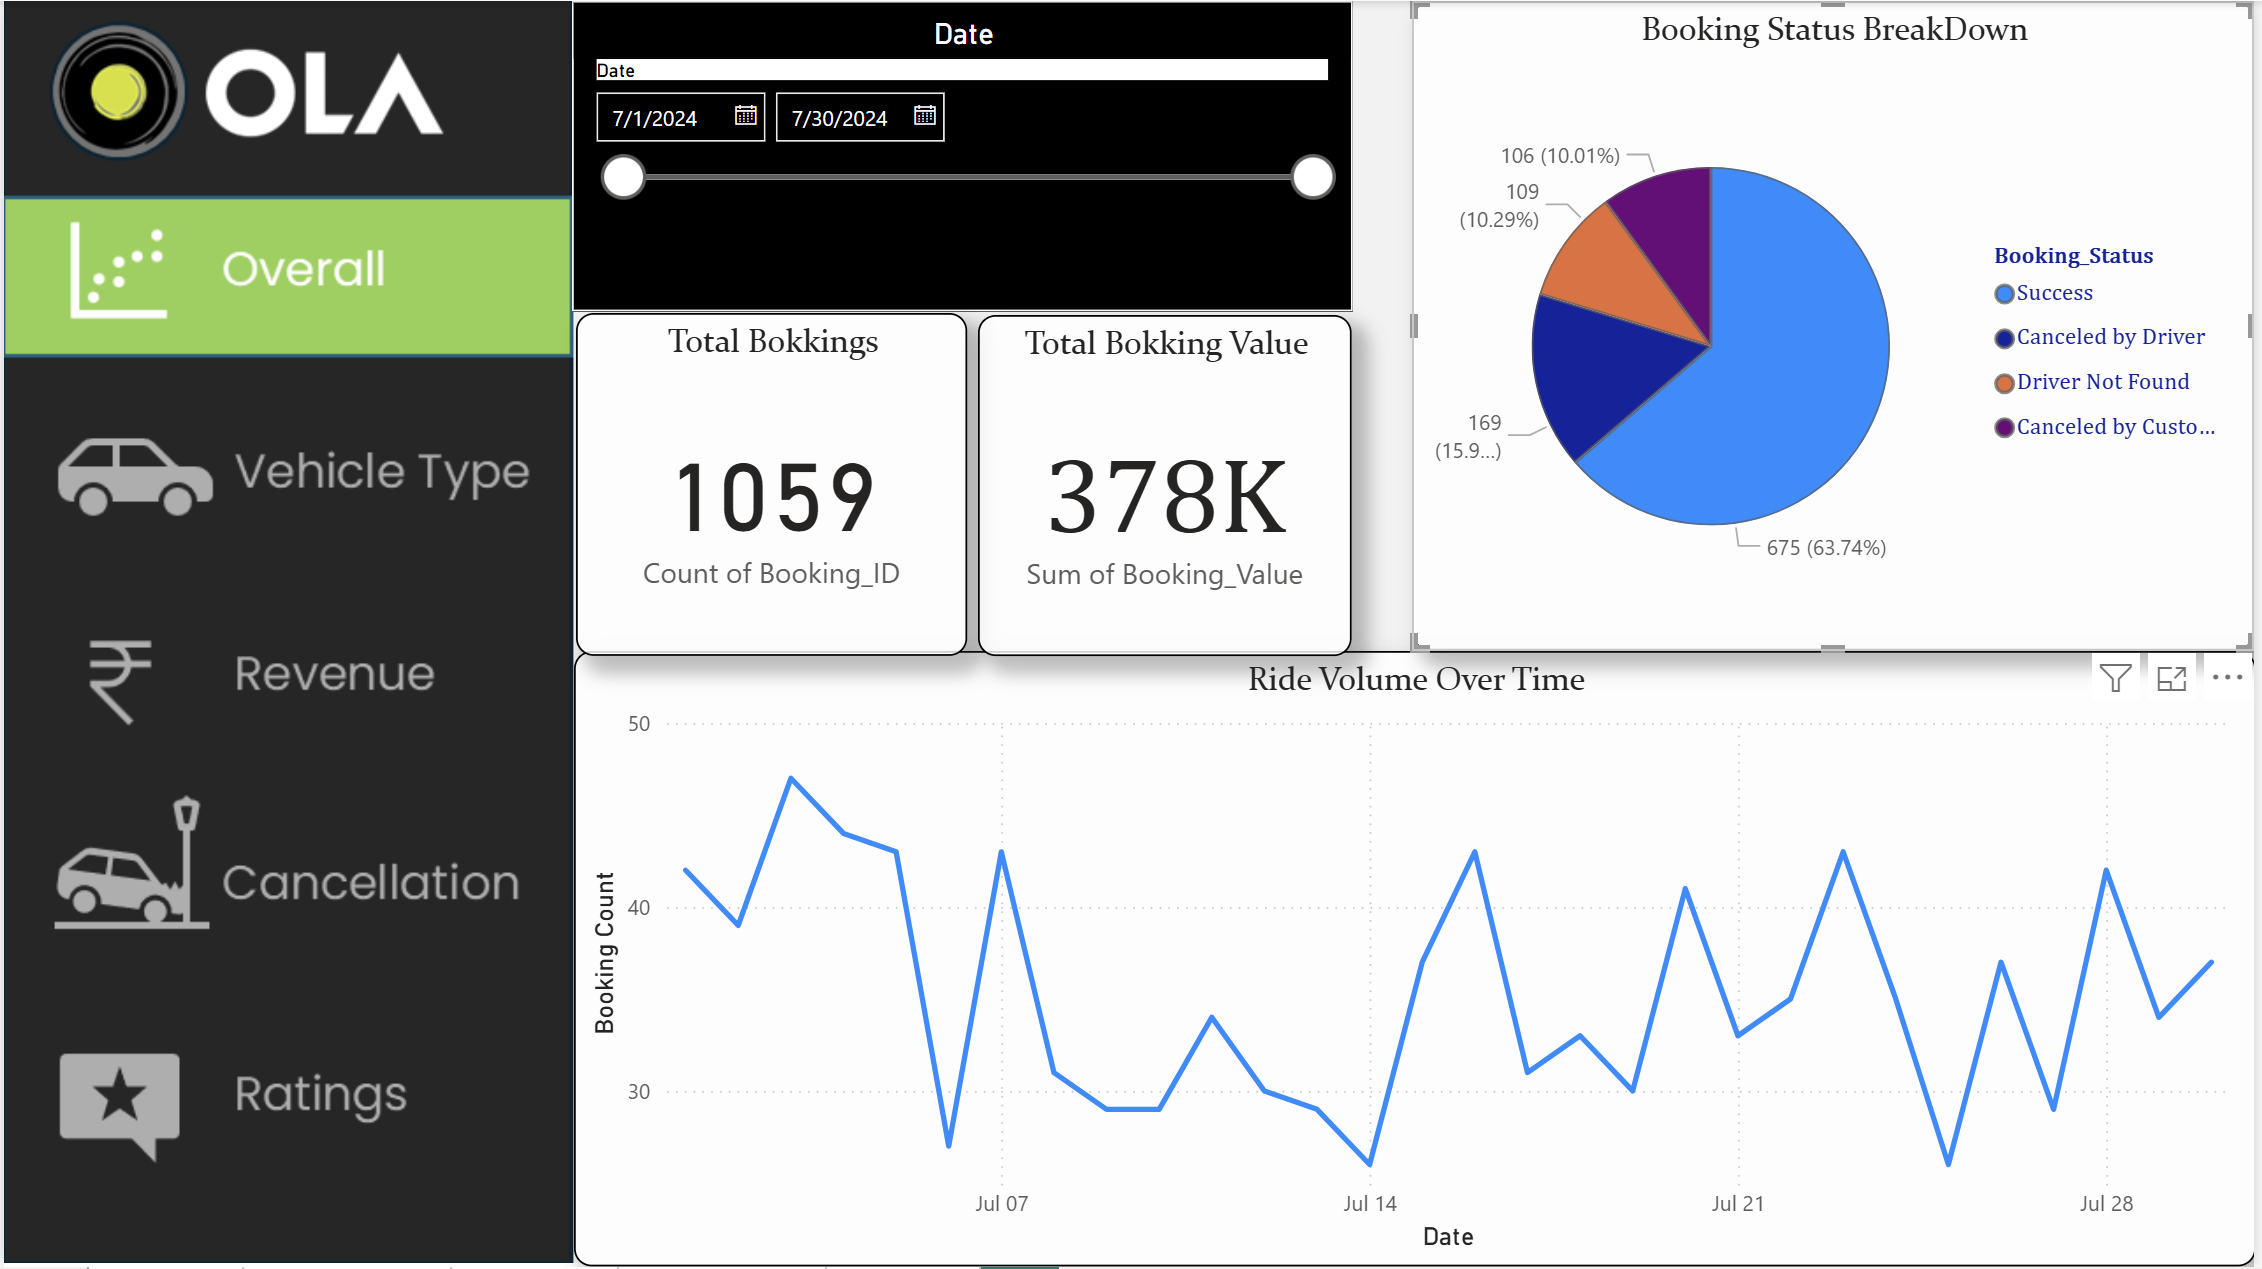

What the dashboard file says about the page in this screenshot:
{"tool":"powerbi","page":{"name":"overall","canvas":[1280,720],"ordinal":0},"visuals":[{"type":"actionButton","box":[0,213.1,323.8,88.8],"z":0},{"type":"actionButton","box":[0,345.8,324.2,80.8],"z":1000},{"type":"actionButton","box":[0,447,325.3,93.3],"z":2000},{"type":"actionButton","box":[0,582.4,324.2,83],"z":3000},{"type":"actionButton","box":[0,115,324,85],"z":4000},{"type":"actionButton","box":[10,223.1,323.8,88.8],"z":5000},{"type":"actionButton","box":[0,338,324,89],"z":6000},{"type":"actionButton","box":[0,446.7,323.3,88.3],"z":7000},{"type":"actionButton","box":[10,456.7,323.3,88.3],"z":8000},{"type":"actionButton","box":[0,576.7,323.3,88.3],"z":9000},{"type":"actionButton","box":[0,213.3,323.3,88.3],"z":10000},{"type":"actionButton","box":[0,345,323.3,88.3],"z":11000},{"type":"actionButton","box":[0,445,323.3,88.3],"z":12000},{"type":"actionButton","box":[0,578.3,323.3,88.3],"z":13000},{"type":"actionButton","box":[10,125,324,85],"z":14000},{"type":"actionButton","box":[0,115,323.8,85],"z":15000},{"type":"actionButton","box":[10,588.3,323.3,88.3],"z":16000},{"type":"lineChart","title":"Ride Volume Over Time","fields":{"Y":["CountNonNull(Bookiing.Booking_ID)"],"Category":["Bookiing.Date"]},"box":[323.8,370,956.2,350],"z":17000},{"type":"pieChart","title":"Booking Status BreakDown","fields":{"Category":["Bookiing.Booking_Status"],"Y":["CountNonNull(Bookiing.Booking_ID)"]},"box":[766.2,0,478.8,370],"z":18000},{"type":"slicer","title":"Date","fields":{"Values":["Bookiing.Date"]},"box":[322.5,0,443.8,176.2],"z":19000},{"type":"card","title":"Total Bokkings","fields":{"Values":["Count(Bookiing.Booking_ID)"]},"box":[325,177.5,222.5,195],"z":20000},{"type":"card","title":"Total Bokking Value","fields":{"Values":["Sum(Bookiing.Booking_Value)"]},"box":[553.8,178.8,212.5,193.8],"z":21000}]}

Visuals, with their boxes in screenshot pixels (x1, y1, x2, y2), scaled from the page's 1280x720 canvas onto the 2262x1269 screenshot:
actionButton: 0/376/572/532
actionButton: 0/609/573/752
actionButton: 0/788/575/952
actionButton: 0/1026/573/1173
actionButton: 0/203/573/352
actionButton: 18/393/590/550
actionButton: 0/596/573/753
actionButton: 0/787/571/943
actionButton: 18/805/589/961
actionButton: 0/1016/571/1172
actionButton: 0/376/571/532
actionButton: 0/608/571/764
actionButton: 0/784/571/940
actionButton: 0/1019/571/1175
actionButton: 18/220/590/370
actionButton: 0/203/572/352
actionButton: 18/1037/589/1193
"Ride Volume Over Time" lineChart: 572/652/2261/1268
"Booking Status BreakDown" pieChart: 1354/0/2200/652
"Date" slicer: 570/0/1354/311
"Total Bokkings" card: 574/313/968/657
"Total Bokking Value" card: 979/315/1354/657
